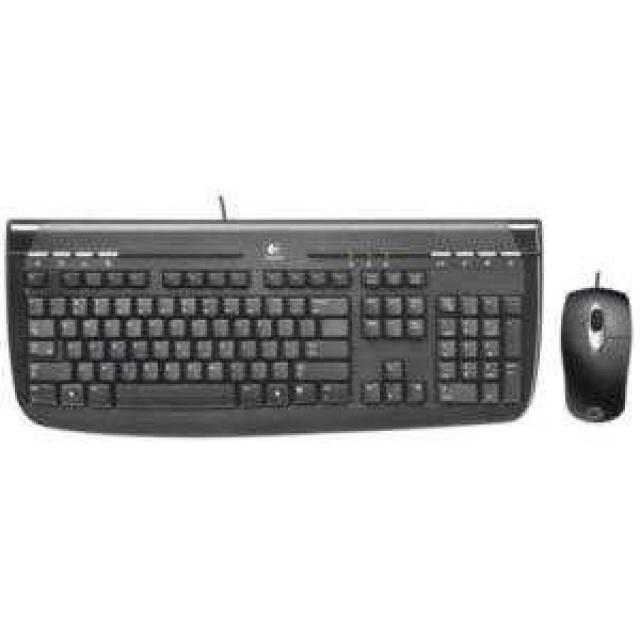keyboard: (10, 216, 546, 434)
